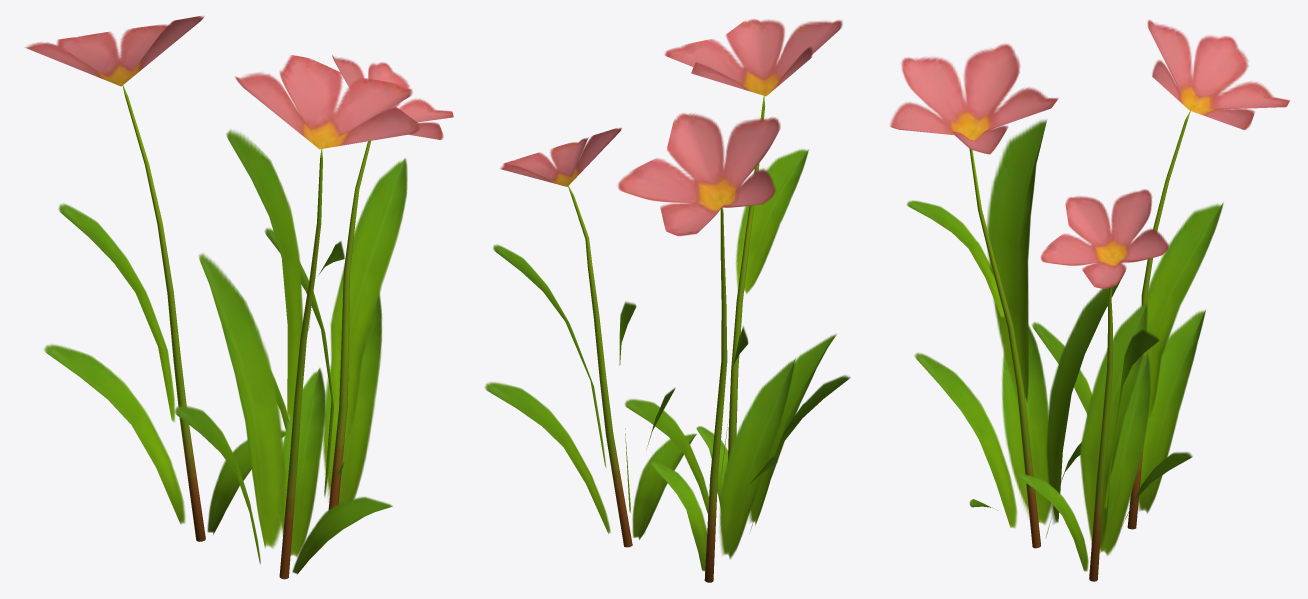
Rendered from Flower_Group.glb.
3 views of the same model, side by side, from view 1: azimuth 30°, elevation 25°; view 2: azimuth 150°, elevation 25°; view 3: azimuth 270°, elevation 25° (orthographic). The views are drawn at different scales.
Visible parts, largest first — view 1: Flower_3_Group; view 2: Flower_3_Group; view 3: Flower_3_Group.
Part boxes in pixels (bbox=[...]): Flower_3_Group: bbox=[25, 16, 453, 579]; Flower_3_Group: bbox=[485, 19, 850, 582]; Flower_3_Group: bbox=[890, 19, 1289, 581].
Bounding box in the file's own units: 1.49 × 2.05 × 1.59.
Materials: 2 (2 with a texture image).
